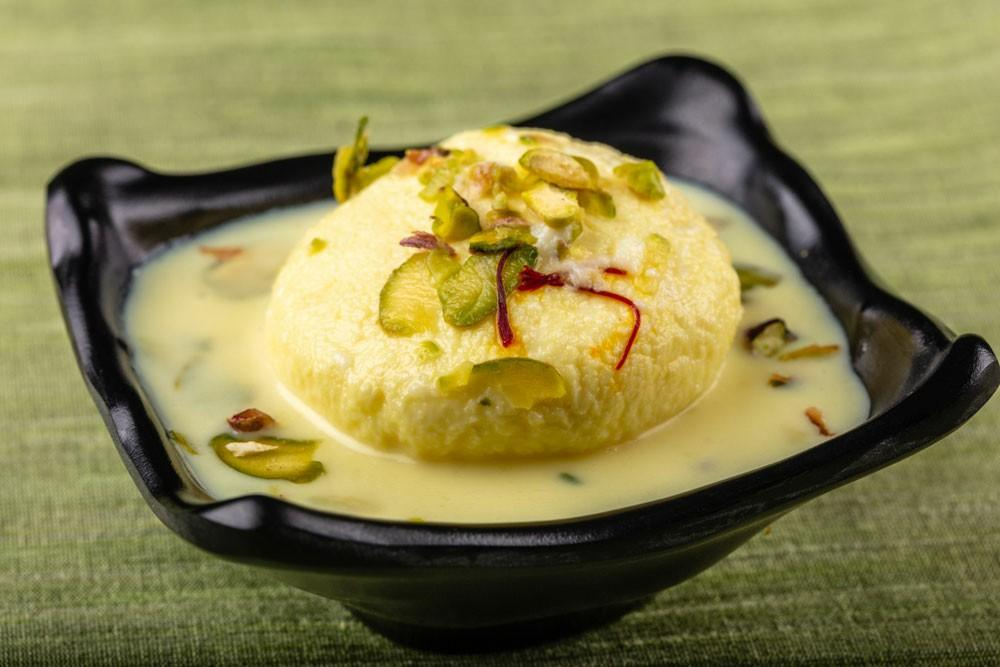RasMalai: (115, 109, 878, 524)
